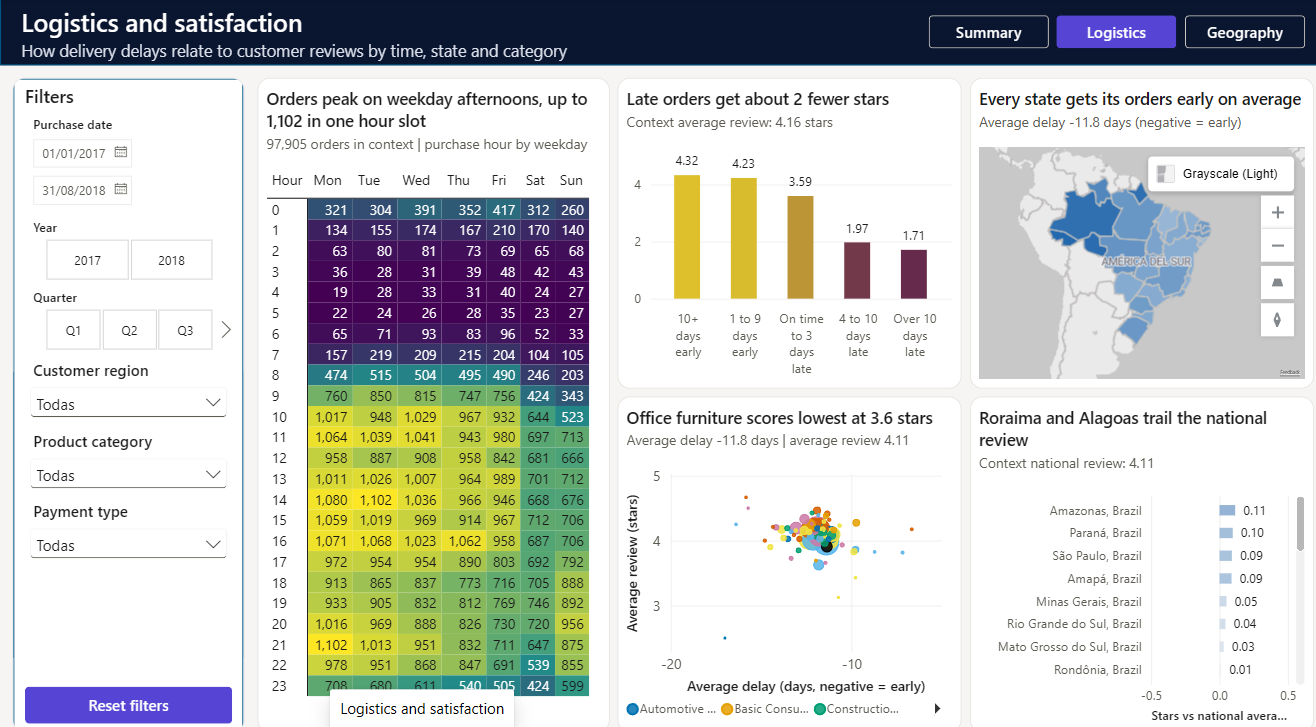

Layout of this report page (visuals, bound fields, positions):
{"tool":"powerbi","page":{"name":"Logistics and satisfaction","canvas":[1280,720],"ordinal":1},"visuals":[{"type":"shape","box":[0,0,1280,64],"z":0},{"type":"shape","box":[12,76,224,632],"z":0},{"type":"textbox","box":[20,6,640,54],"z":1000},{"type":"textbox","box":[24,82,200,28],"z":1000},{"type":"actionButton","box":[896,16,116,32],"z":2000},{"type":"actionButton","box":[1020,16,116,32],"z":2000},{"type":"actionButton","box":[1144,16,116,32],"z":2000},{"type":"actionButton","box":[680,18,180,28],"z":2000},{"type":"slicer","fields":{"Values":["dim_date.date"]},"box":[24,112,200,92],"z":3000},{"type":"slicer","fields":{"Values":["dim_date.year"]},"box":[24,212,200,60],"z":3000},{"type":"slicer","fields":{"Values":["dim_date.quarter_label"]},"box":[24,280,200,60],"z":3000},{"type":"slicer","fields":{"Values":["dim_customer.region_name"]},"box":[24,348,200,60],"z":3000},{"type":"slicer","fields":{"Values":["dim_product.macro_name"]},"box":[24,416,200,60],"z":3000},{"type":"slicer","fields":{"Values":["dim_payment_type.payment_name"]},"box":[24,484,200,60],"z":3000},{"type":"actionButton","box":[24,664,200,36],"z":3500},{"type":"pivotTable","title":"Orders peak on weekday afternoons, up to 1,102 in one hour slot","fields":{"Columns":["dim_date.weekday_short"],"Rows":["fact_order_items.purchase_hour"],"Values":["_Measures.Orders"]},"box":[248,76,340,632],"z":4000},{"type":"columnChart","title":"Late orders get about 2 fewer stars","fields":{"Category":["fact_order_items.delay_band_name"],"Y":["_Measures.Avg Review"]},"box":[596,76,332,300],"z":4000},{"type":"azureMap","title":"Every state gets its orders early on average","fields":{"Category":["dim_customer.state_full"]},"box":[936,76,332,300],"z":4000},{"type":"scatterChart","title":"Office furniture scores lowest at 3.6 stars","fields":{"Category":["dim_product.category_name"],"Series":["dim_product.macro_name"],"Size":["_Measures.Orders"],"X":["_Measures.Avg Delay Days"],"Y":["_Measures.Avg Review"]},"box":[596,384,332,324],"z":4000},{"type":"barChart","title":"Roraima and Alagoas trail the national review","fields":{"Category":["dim_customer.region_name","dim_customer.state_full","dim_customer.city"],"Y":["_Measures.Review Gap vs National"]},"box":[936,384,332,324],"z":4000}]}

Visuals, with their boxes in screenshot pixels (x1, y1, x2, y2), scaled from the page's 1280x720 canvas onto the 1316x727 screenshot:
shape: pyautogui.locateOnScreen(0, 0, 1315, 65)
shape: pyautogui.locateOnScreen(12, 77, 243, 715)
textbox: pyautogui.locateOnScreen(21, 6, 679, 61)
textbox: pyautogui.locateOnScreen(25, 83, 230, 111)
actionButton: pyautogui.locateOnScreen(921, 16, 1040, 48)
actionButton: pyautogui.locateOnScreen(1049, 16, 1168, 48)
actionButton: pyautogui.locateOnScreen(1176, 16, 1295, 48)
actionButton: pyautogui.locateOnScreen(699, 18, 884, 46)
slicer - dim_date.date: pyautogui.locateOnScreen(25, 113, 230, 206)
slicer - dim_date.year: pyautogui.locateOnScreen(25, 214, 230, 275)
slicer - dim_date.quarter_label: pyautogui.locateOnScreen(25, 283, 230, 343)
slicer - dim_customer.region_name: pyautogui.locateOnScreen(25, 351, 230, 412)
slicer - dim_product.macro_name: pyautogui.locateOnScreen(25, 420, 230, 481)
slicer - dim_payment_type.payment_name: pyautogui.locateOnScreen(25, 489, 230, 549)
actionButton: pyautogui.locateOnScreen(25, 670, 230, 707)
"Orders peak on weekday afternoons, up to 1,102 in one hour slot" pivotTable: pyautogui.locateOnScreen(255, 77, 605, 715)
"Late orders get about 2 fewer stars" columnChart: pyautogui.locateOnScreen(613, 77, 954, 380)
"Every state gets its orders early on average" azureMap: pyautogui.locateOnScreen(962, 77, 1304, 380)
"Office furniture scores lowest at 3.6 stars" scatterChart: pyautogui.locateOnScreen(613, 388, 954, 715)
"Roraima and Alagoas trail the national review" barChart: pyautogui.locateOnScreen(962, 388, 1304, 715)
